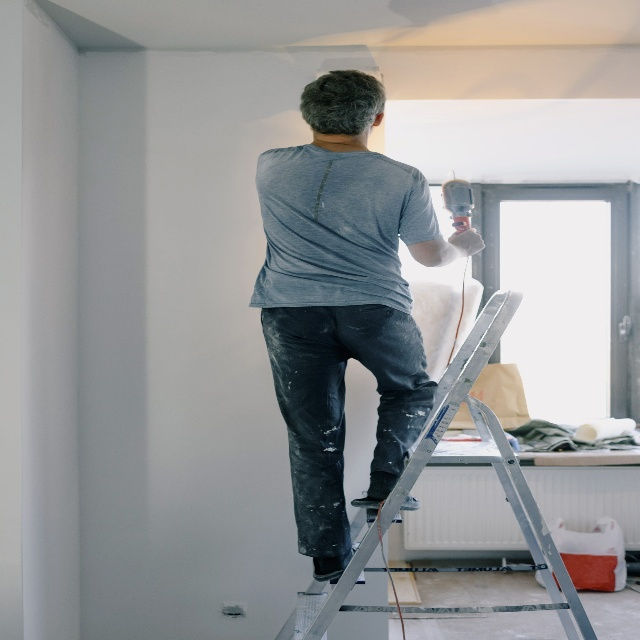Sin_guantes: (447, 227, 486, 258)
